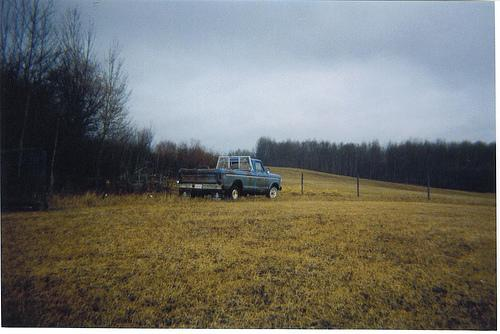truck: (176, 153, 283, 202)
